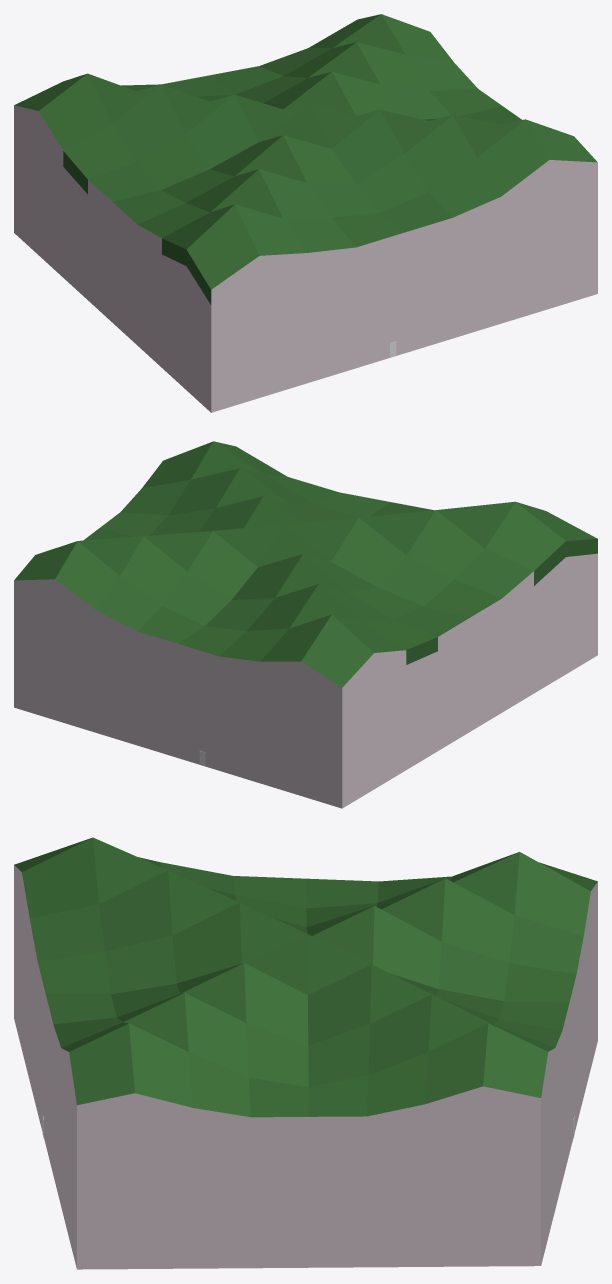
The model's file is WestralSquareShops3.fbx.
The picture shows the model from 3 angles, top to bottom: view 1: azimuth 30°, elevation 25°; view 2: azimuth 150°, elevation 25°; view 3: azimuth 270°, elevation 25°; orthographic projection. The views are drawn at different scales.
Parts seen in each view (by area): view 1: WestralSquareShops3; view 2: WestralSquareShops3; view 3: WestralSquareShops3.
Boxes of the visible parts, box(x1,y1,x2,y2) form: WestralSquareShops3: box(14, 14, 597, 412); WestralSquareShops3: box(14, 441, 597, 808); WestralSquareShops3: box(14, 837, 597, 1269).
Size of the model in its own units: 60.65 by 24.19 by 59.62.
